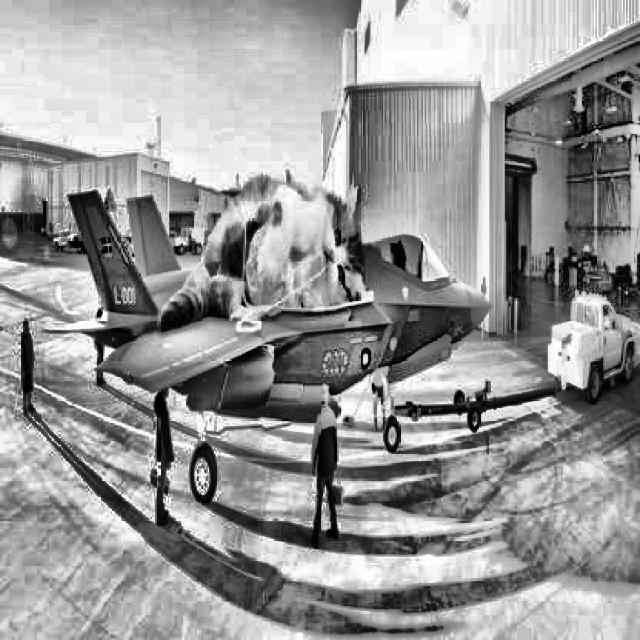F35: (40, 188, 494, 506)
